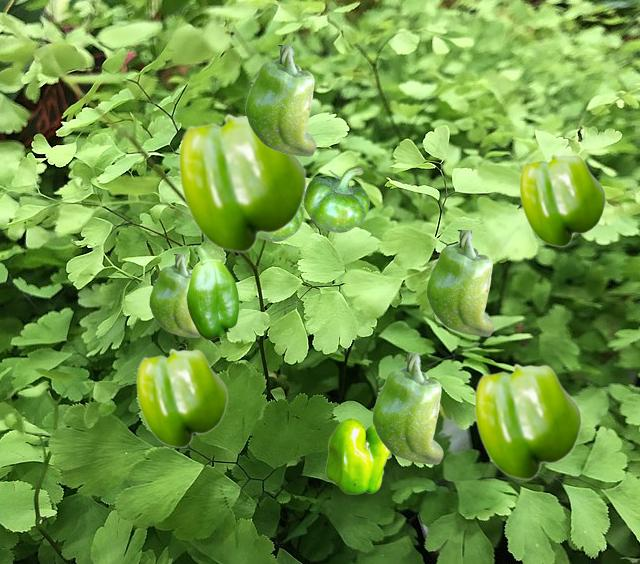bell_pepper: (178, 113, 306, 252), (474, 363, 581, 479), (136, 348, 227, 447), (519, 153, 605, 246), (372, 353, 442, 463), (245, 45, 315, 155), (426, 230, 493, 335), (325, 417, 390, 493), (186, 246, 238, 339), (304, 166, 368, 231), (149, 254, 199, 336), (259, 207, 302, 240)
